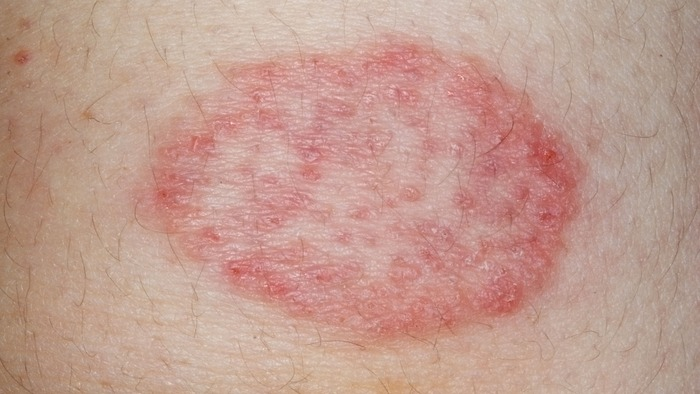Ringworm: (127, 33, 597, 346)
